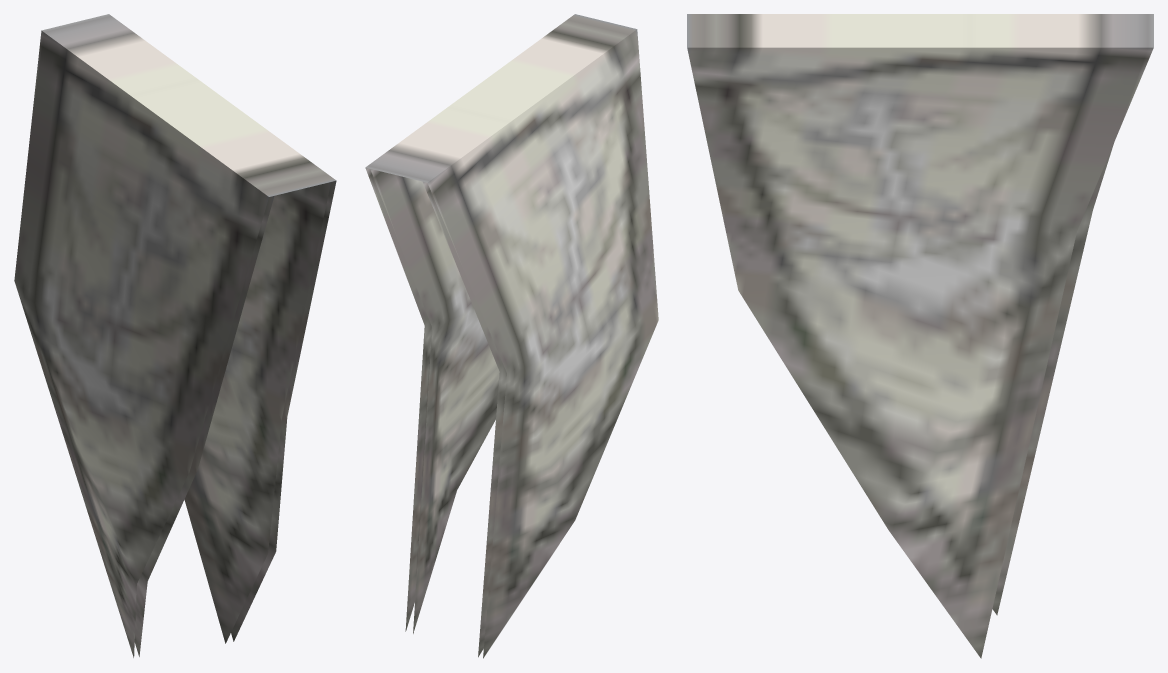
The model's file is building_x_dock_flag.glb.
The picture shows the model from 3 angles, left to right: view 1: azimuth 30°, elevation 25°; view 2: azimuth 150°, elevation 25°; view 3: azimuth 270°, elevation 25°; orthographic projection. The views are drawn at different scales.
Visible parts, largest first — view 1: MeshRoot; view 2: MeshRoot; view 3: MeshRoot.
Boxes of the visible parts, x1,y1,x2,y2 form: MeshRoot: [14, 14, 336, 657]; MeshRoot: [365, 14, 658, 658]; MeshRoot: [687, 14, 1153, 658].
Size of the model in its own units: 0.4766 by 1.59 by 1.14.
Materials: 1 (1 with a texture image).
